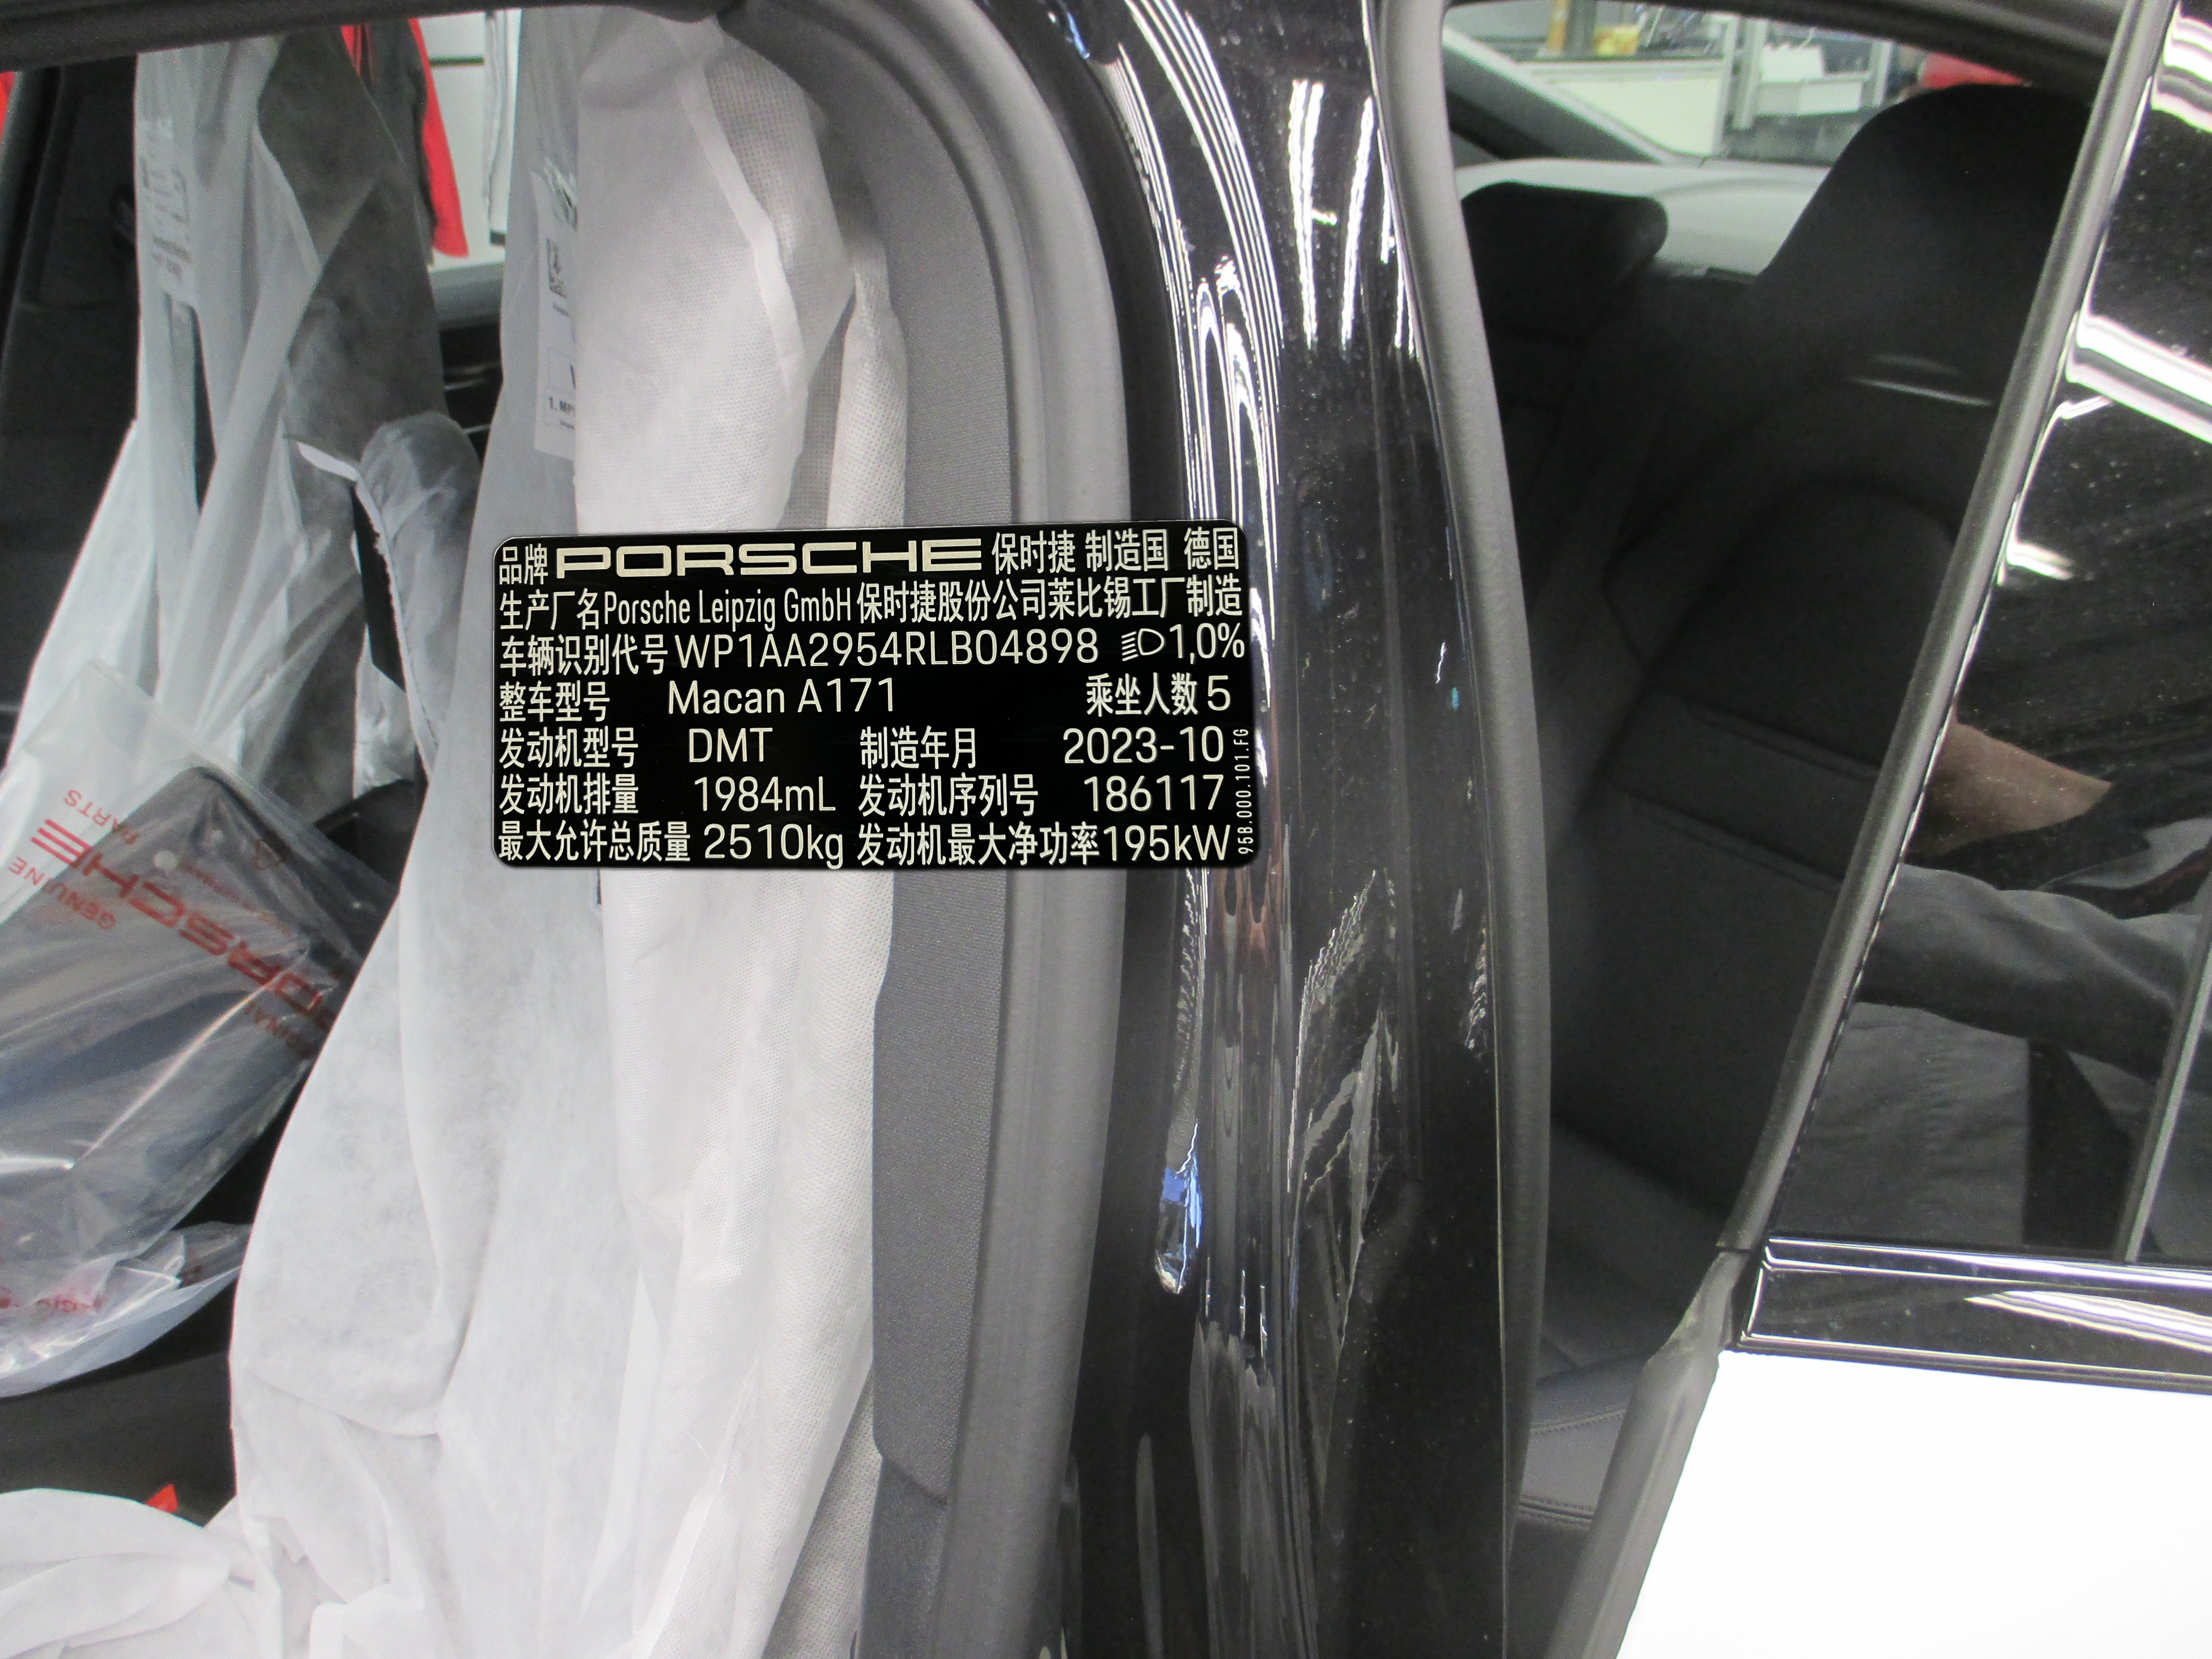Typlabel-China: (493, 519, 1259, 870)
